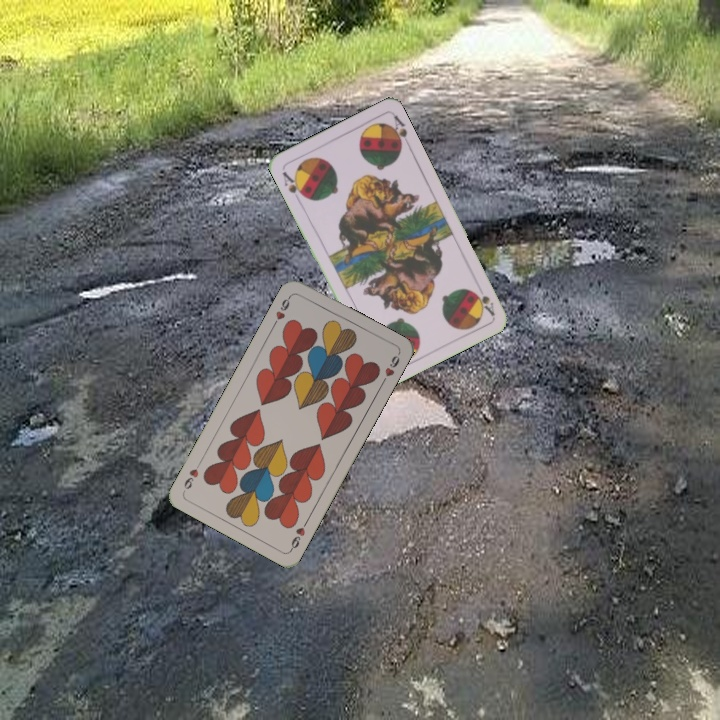H9: (286, 515, 311, 553), (269, 291, 294, 329)
SA: (469, 280, 497, 318), (278, 167, 308, 201)
